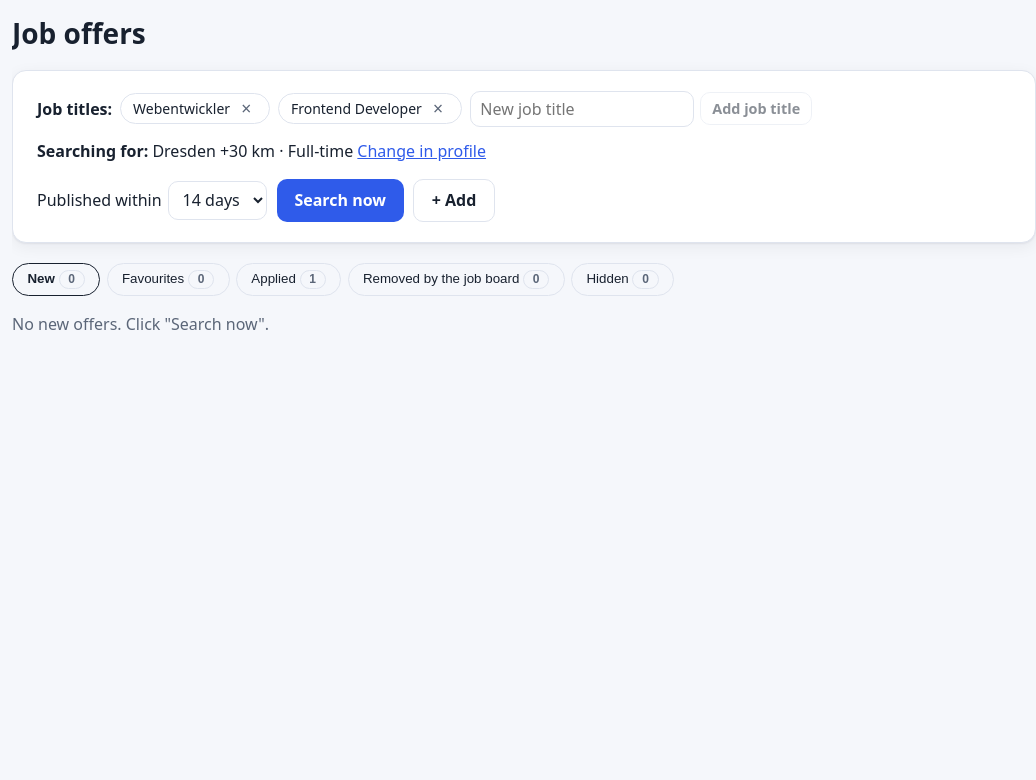
Test: VacanciesPage — strip and empty states › 9c: "Hide" in "Applied" moves the vacancy to Hidden; "Undo" brings it back to Applied
Click the tab "Applied 1": (289, 279) [236, 263, 341, 296]
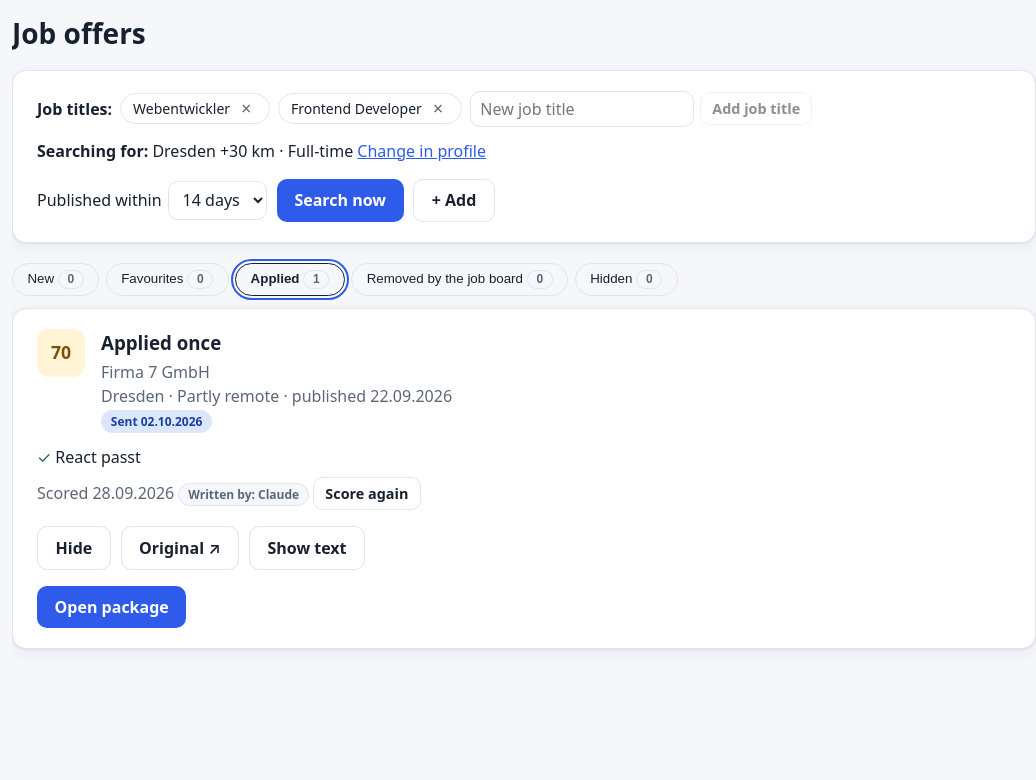
Click the button "Hide": (74, 548) [37, 526, 111, 570]
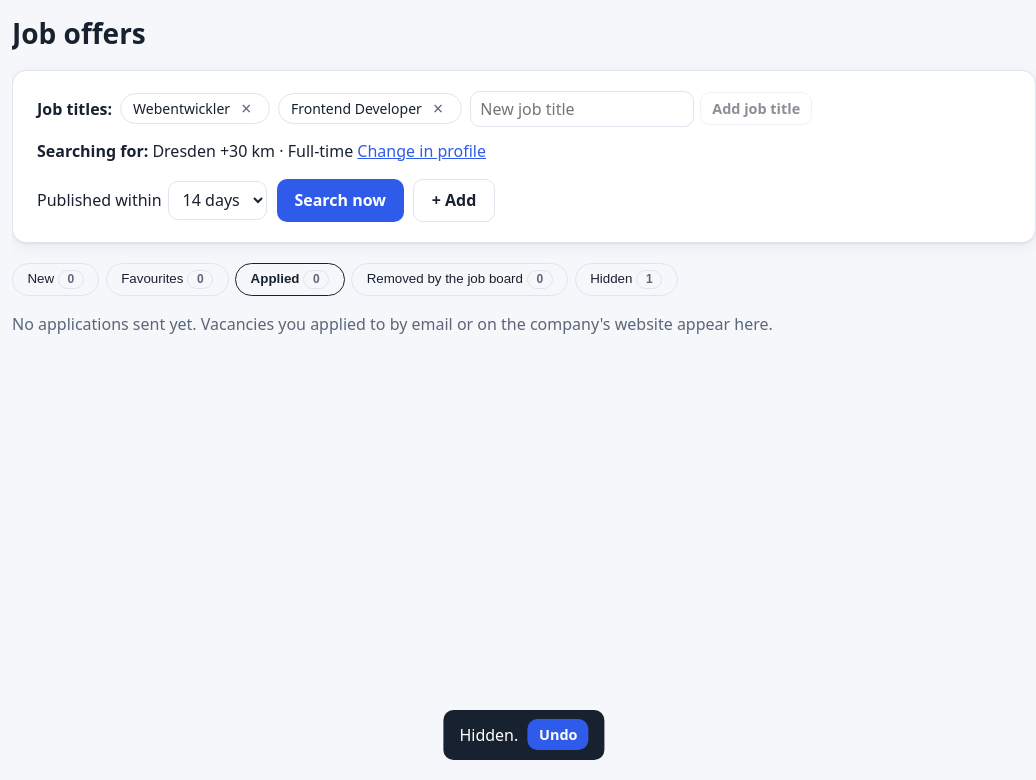
Expected: the tab "Hidden 1" is shown, [575, 263, 678, 296]
Expected: the tab "Applied 0" is shown, [235, 263, 345, 296]
Click the button "Undo": (558, 735) [528, 719, 589, 750]
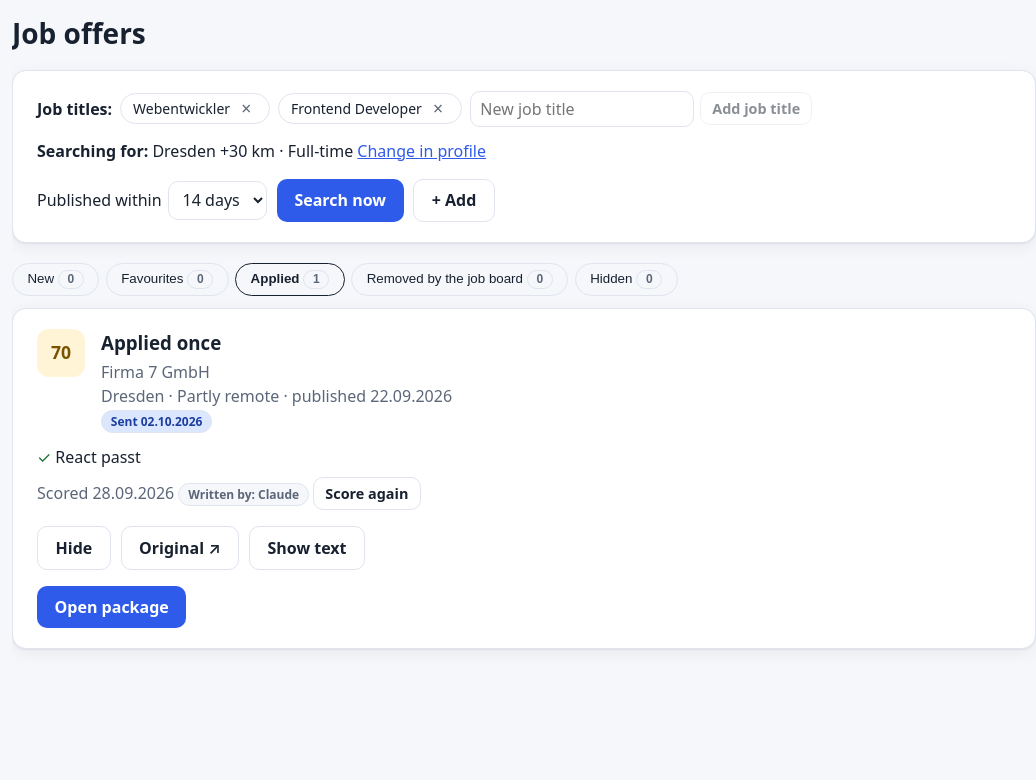
Expected: the tab "Applied 1" is shown, [235, 263, 345, 296]
Expected: the tab "Hidden 0" is shown, [575, 263, 678, 296]
